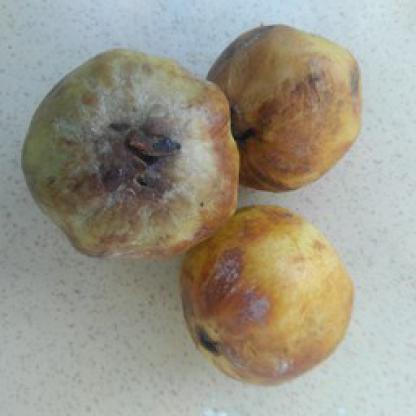guava_rotten: (18, 45, 240, 265), (170, 198, 360, 387), (201, 21, 367, 193)
